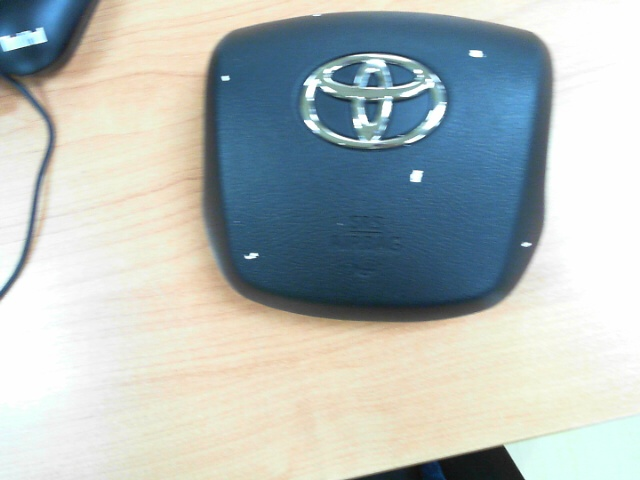Airbag: (409, 169, 424, 183), (468, 49, 487, 58), (243, 252, 260, 260), (220, 74, 232, 82), (520, 241, 533, 248)
